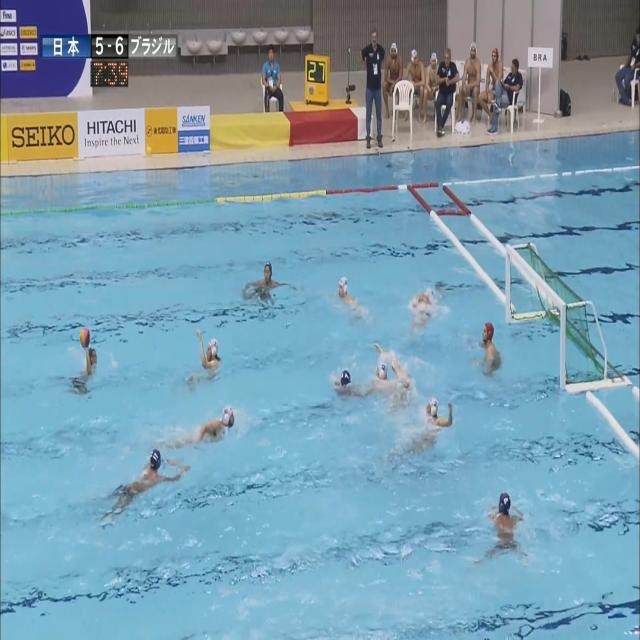ball: (80, 327, 90, 347)
